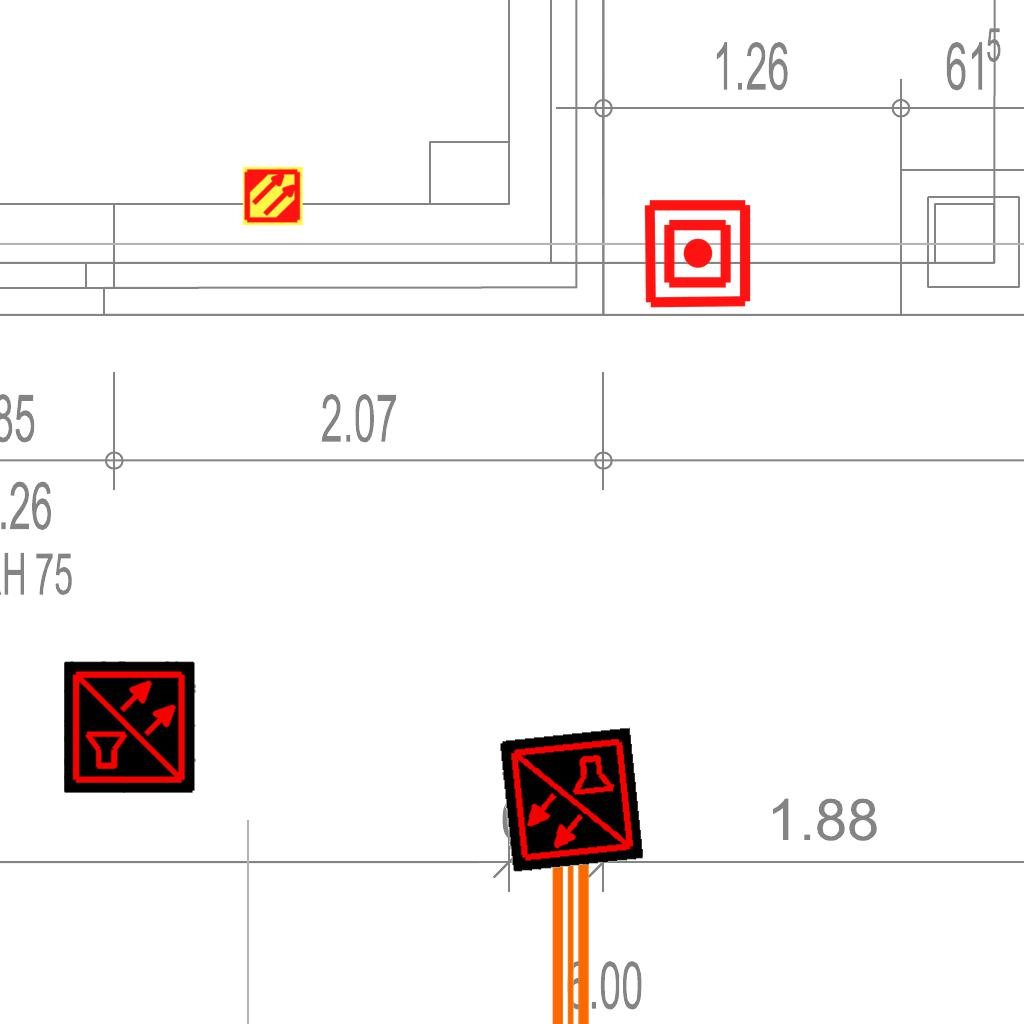ASR_Ansaugrauchmelder: (242, 165, 304, 227)
Ambulanz_Pendelleuchte_LED: (540, 808, 652, 1024)
NAM-Nichtautomatischer_Melder: (641, 197, 754, 310)
OKW_Multisensormelder_(Kombination_optischer_Rauch-Kahlenmonoxid_Waerme-Melder): (498, 727, 644, 873), (64, 661, 196, 793)
